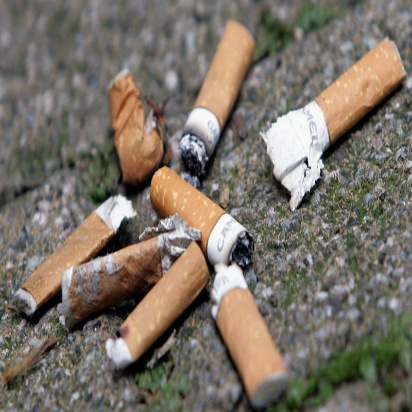cigarette: (262, 36, 410, 208), (17, 192, 133, 319), (102, 240, 212, 368), (206, 262, 296, 410), (179, 17, 257, 177), (148, 165, 260, 269), (101, 69, 175, 184)
